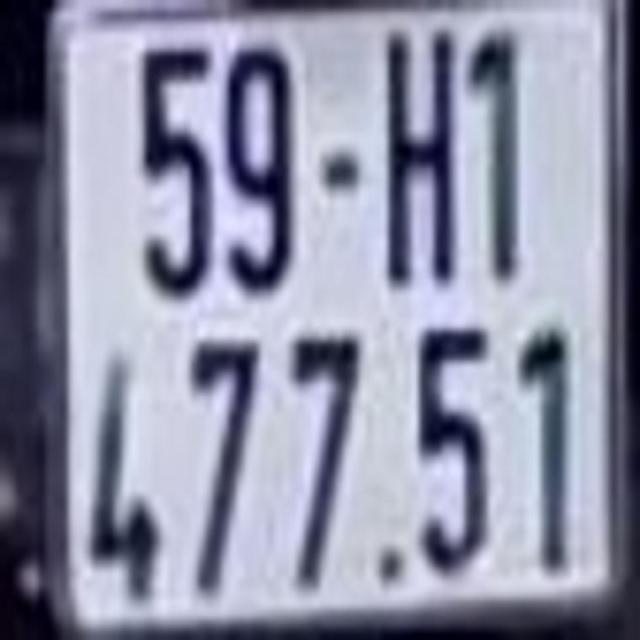1: (519, 327, 577, 578), (468, 19, 523, 279)
4: (92, 347, 167, 600)
5: (414, 315, 496, 567), (137, 40, 218, 295)
7: (292, 329, 362, 593), (193, 332, 263, 596)
9: (228, 49, 298, 296)
H: (384, 19, 462, 280)
